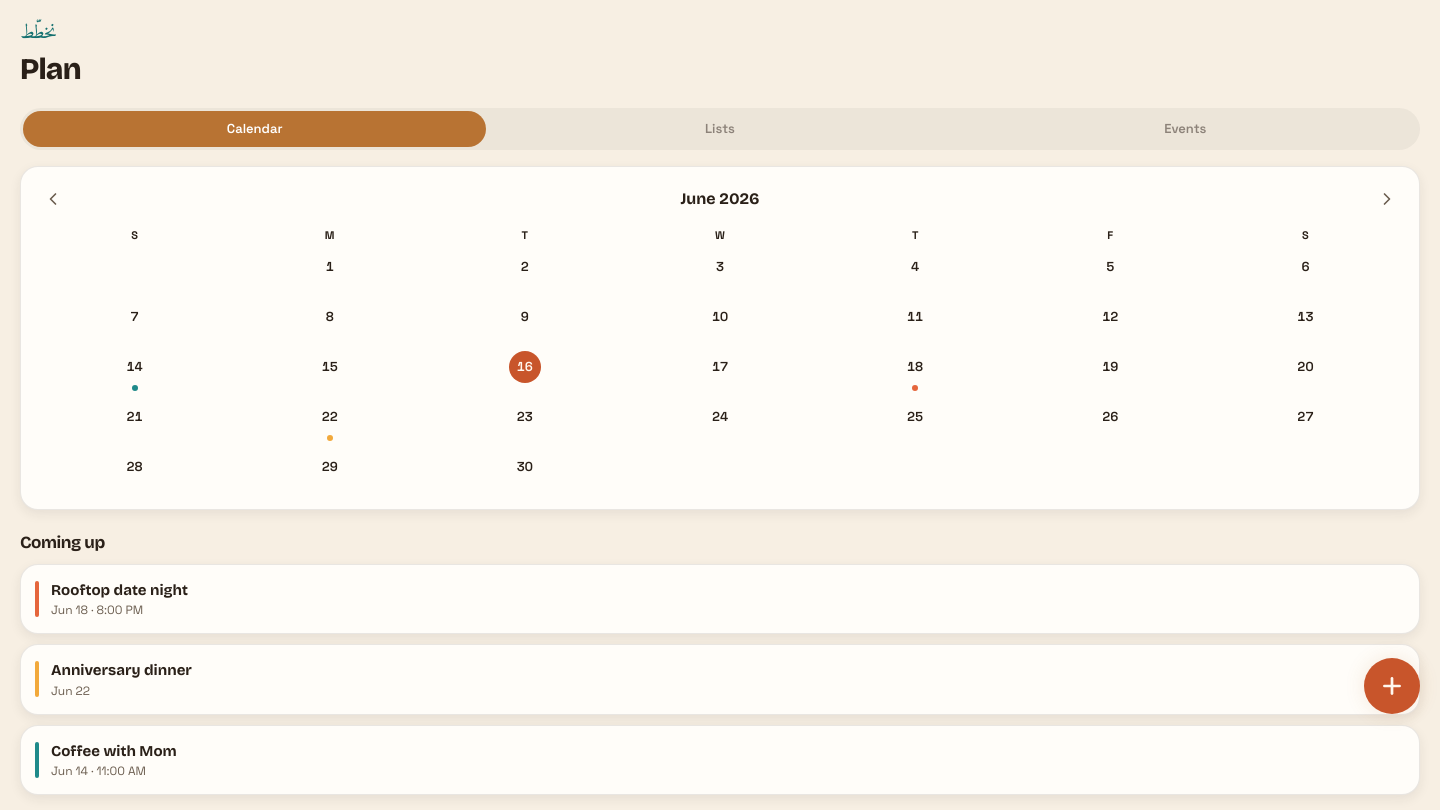
Test: Calendar tab page — month nav + day detail (PlanView redesign) › interaction › closes the day-detail sheet via its close button
Click the button named "Day 18, 1 event" at (915, 371), box [818,349,1013,393]
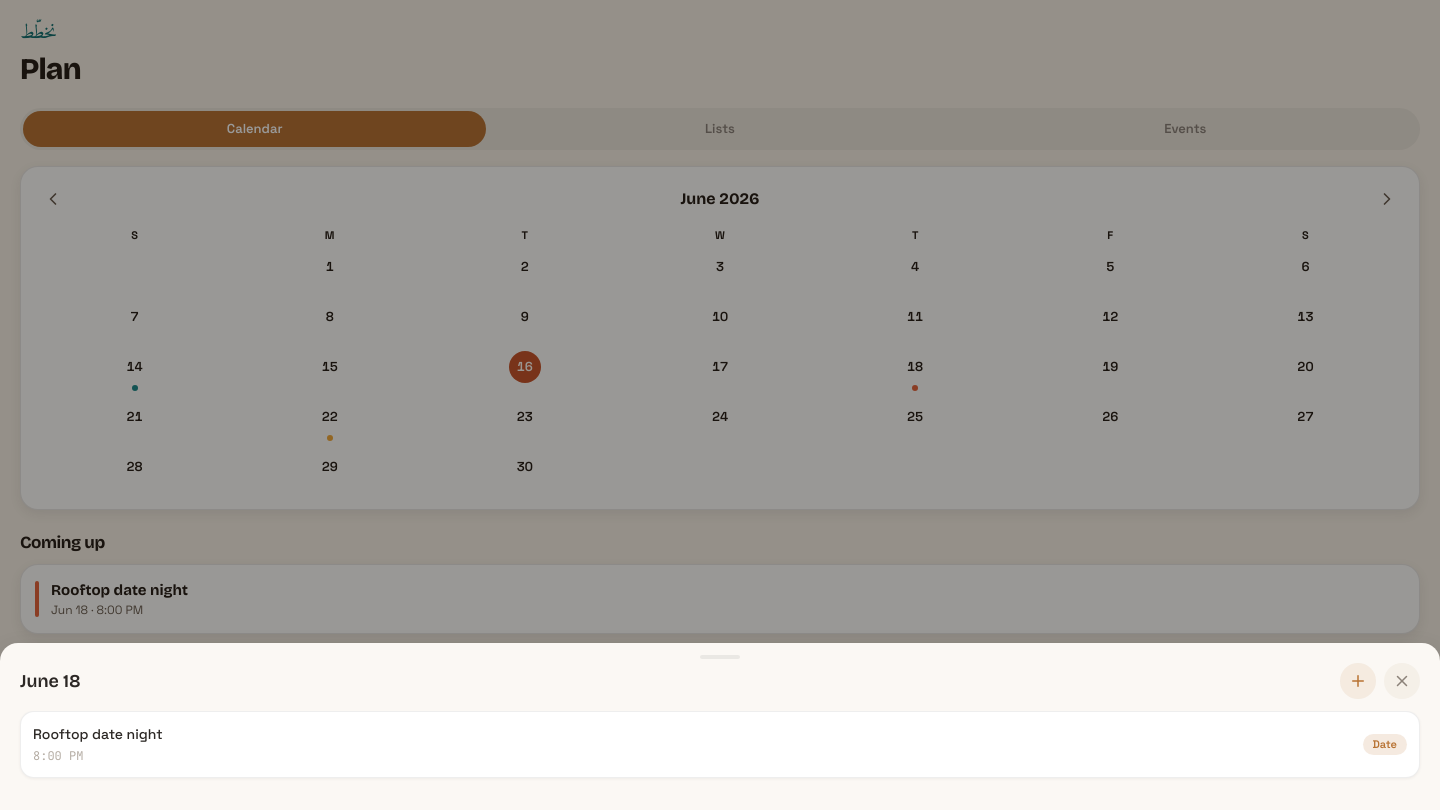
Check: the element with test id "day-detail-sheet" is shown, box [0,643,1439,809]
Click the button with test id "day-sheet-close" at (1402, 681), box [1384,663,1420,699]
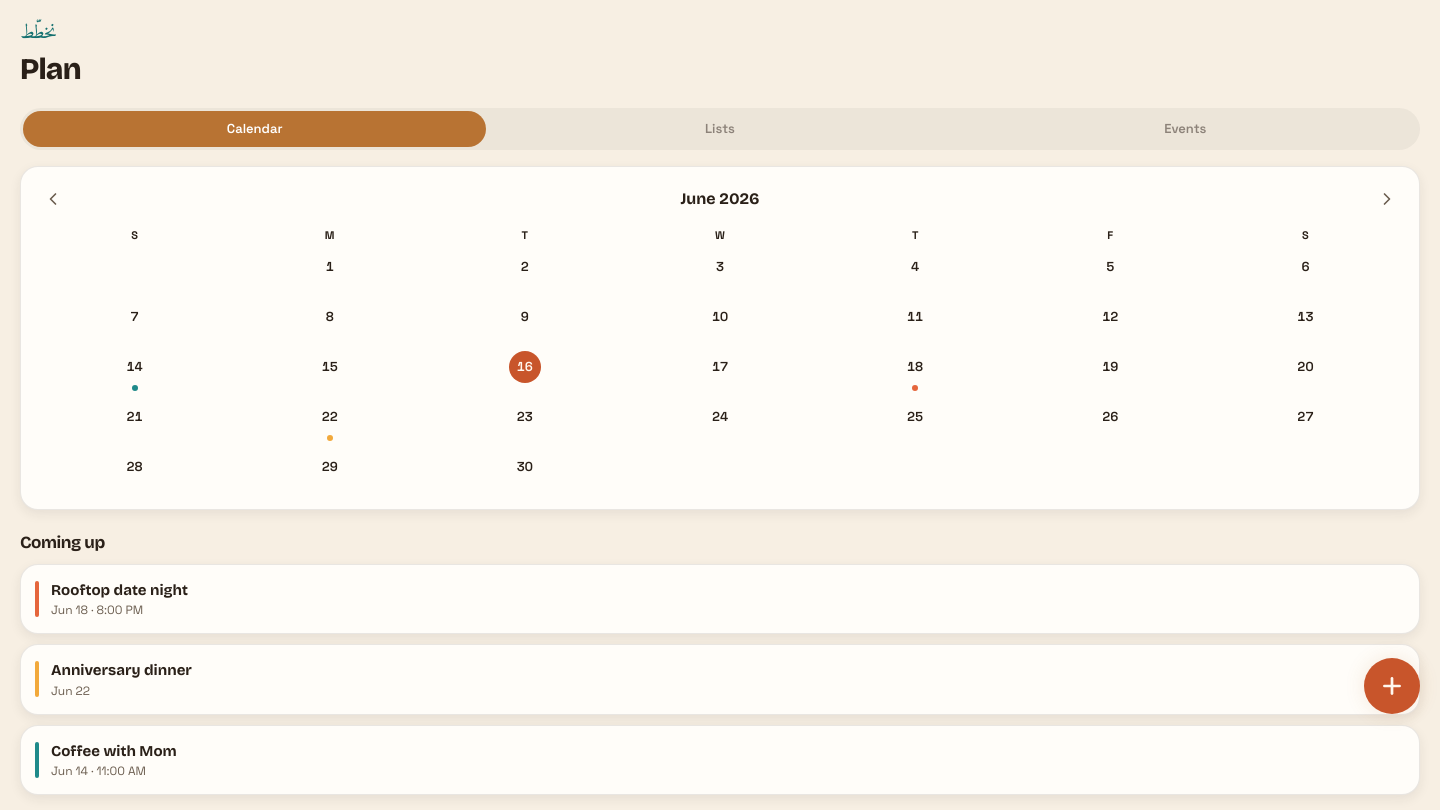
Check: the element with test id "day-detail-sheet" is gone
